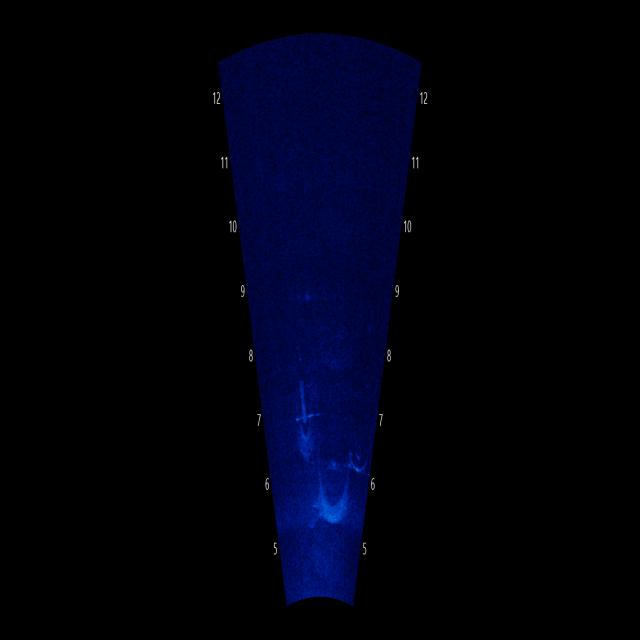circle: (311, 447, 354, 524)
